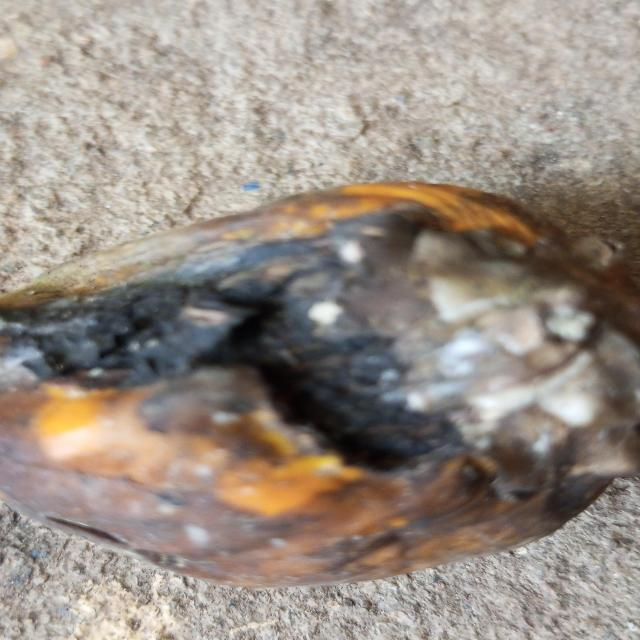damaged: (0, 182, 640, 593)
